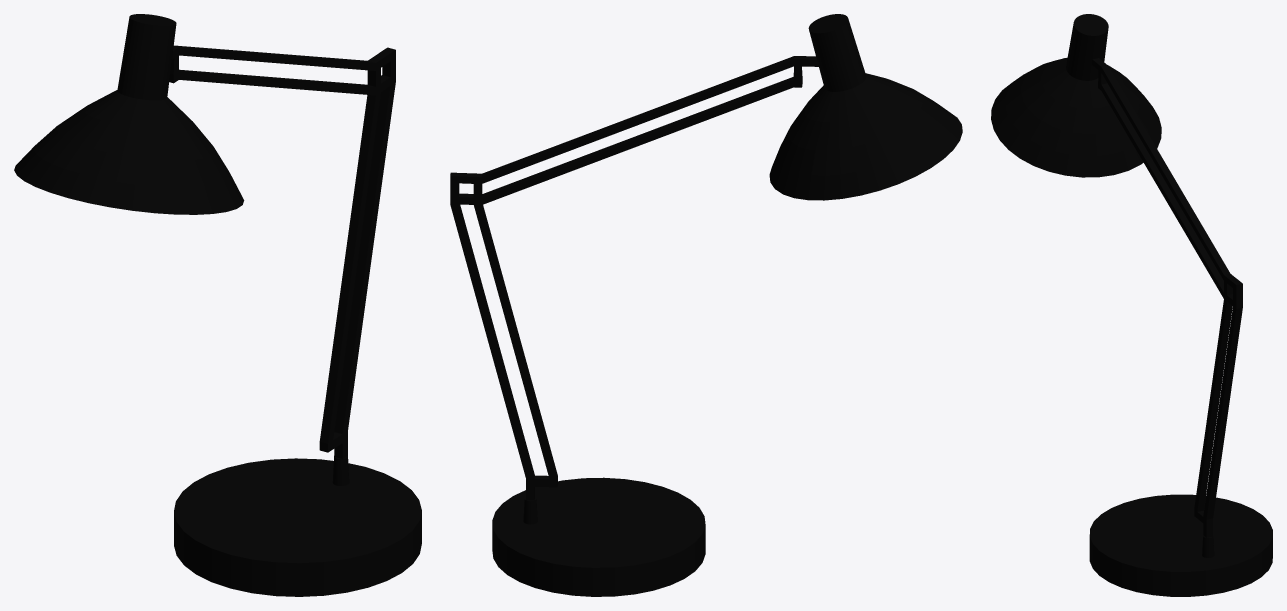
Rendered from lamp.obj.
The picture shows the model from 3 angles, left to right: view 1: azimuth 30°, elevation 25°; view 2: azimuth 150°, elevation 25°; view 3: azimuth 270°, elevation 25°; orthographic projection. The views are drawn at different scales.
Visible parts, largest first — view 1: Cube.029_Material.016; view 2: Cube.029_Material.016; view 3: Cube.029_Material.016.
Part boxes in pixels (x1,y1,x2,y2): Cube.029_Material.016: (14, 14, 421, 596); Cube.029_Material.016: (450, 14, 962, 596); Cube.029_Material.016: (991, 14, 1272, 596).
Size of the model in its own units: 0.6037 by 0.7632 by 0.4212.
Materials: 1 (1 with a texture image).
